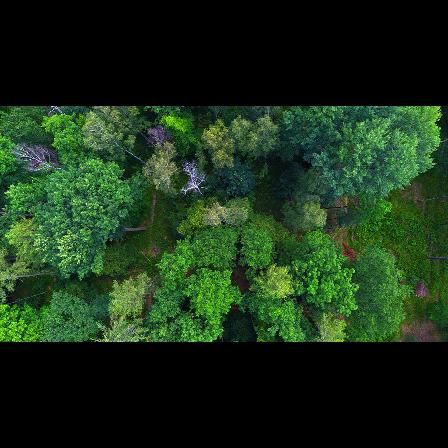Dead: (11, 143, 63, 176), (177, 158, 208, 197), (111, 141, 147, 167), (147, 125, 174, 150)
